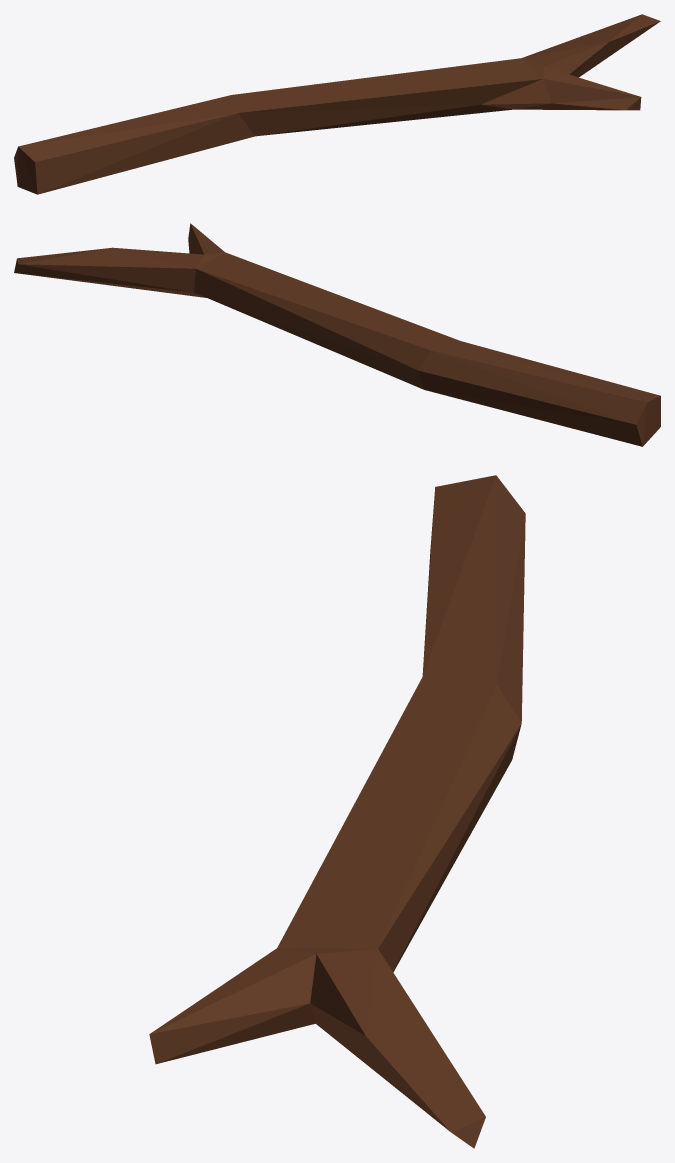
Rendered from Stick3.fbx.
3 views of the same model, one above another, from view 1: azimuth 30°, elevation 25°; view 2: azimuth 150°, elevation 25°; view 3: azimuth 270°, elevation 25° (orthographic). The views are drawn at different scales.
Visible parts, largest first — view 1: Stick3; view 2: Stick3; view 3: Stick3.
Boxes of the visible parts, x1,y1,x2,y2 form: Stick3: [14, 14, 660, 194]; Stick3: [14, 223, 660, 446]; Stick3: [149, 475, 525, 1148].
Size of the model in its own units: 198 by 12.71 by 51.02.
